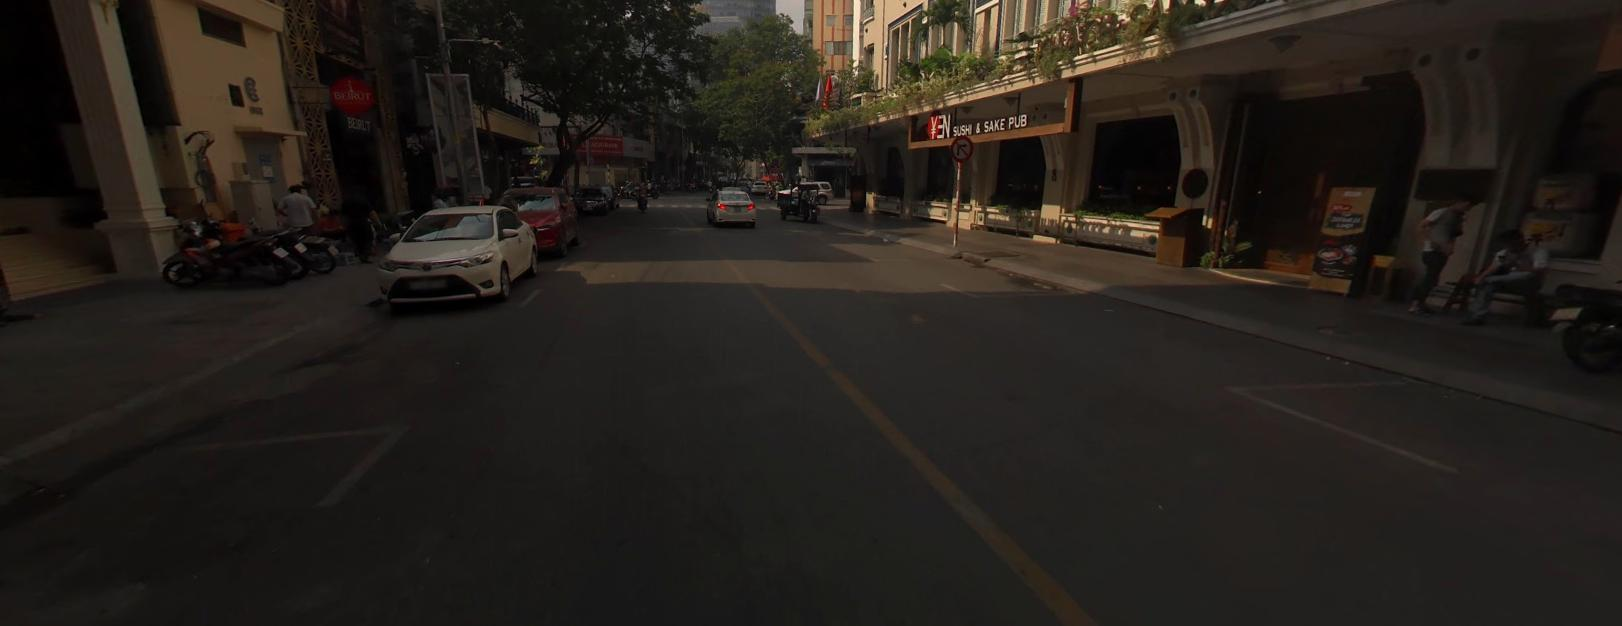Cam re: (951, 133, 972, 159)
